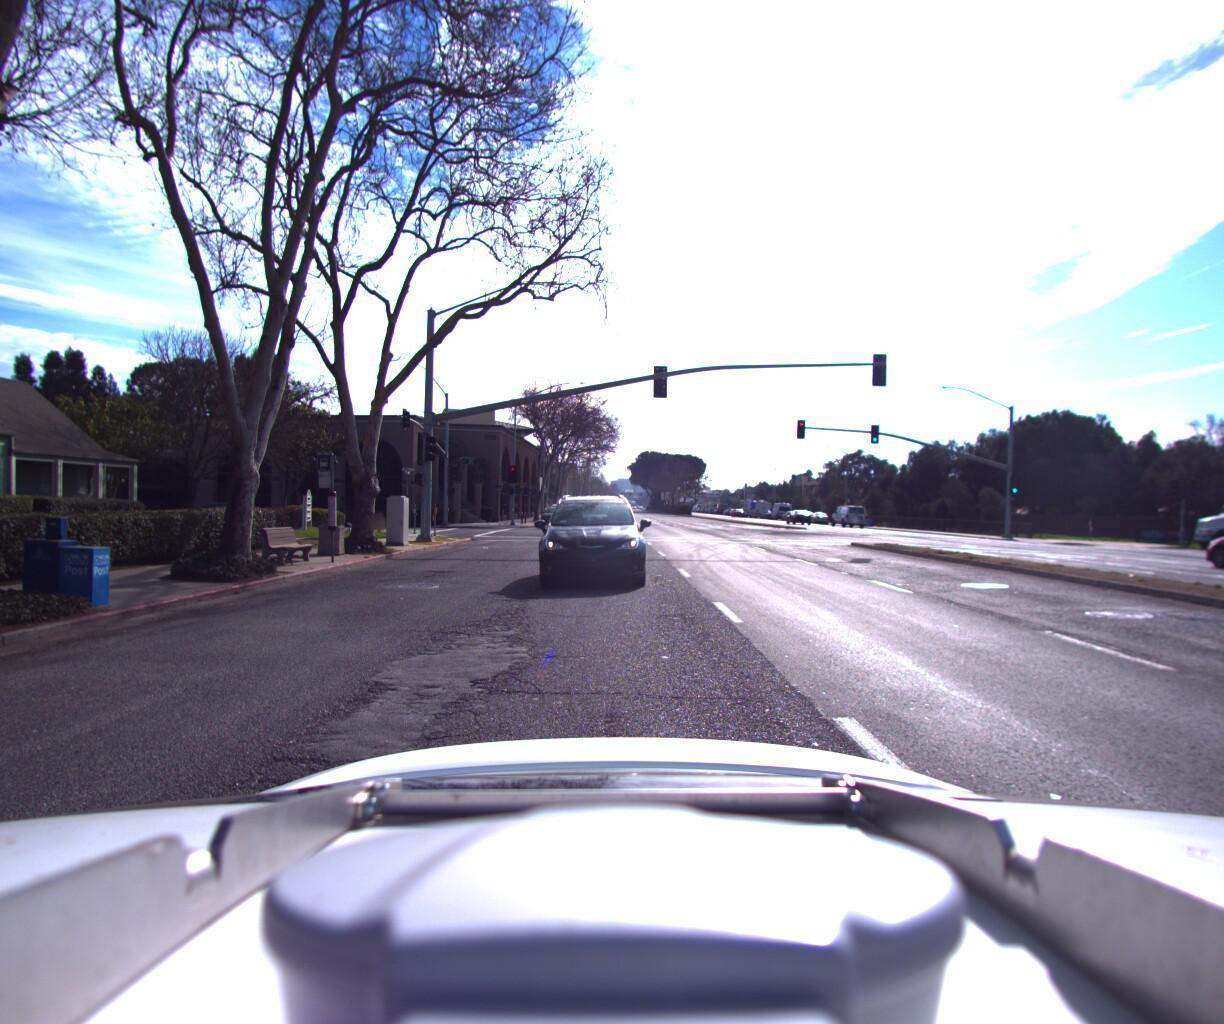car: (533, 488, 650, 592), (1165, 513, 1224, 577), (825, 502, 864, 525)
truck: (1185, 492, 1224, 578)
